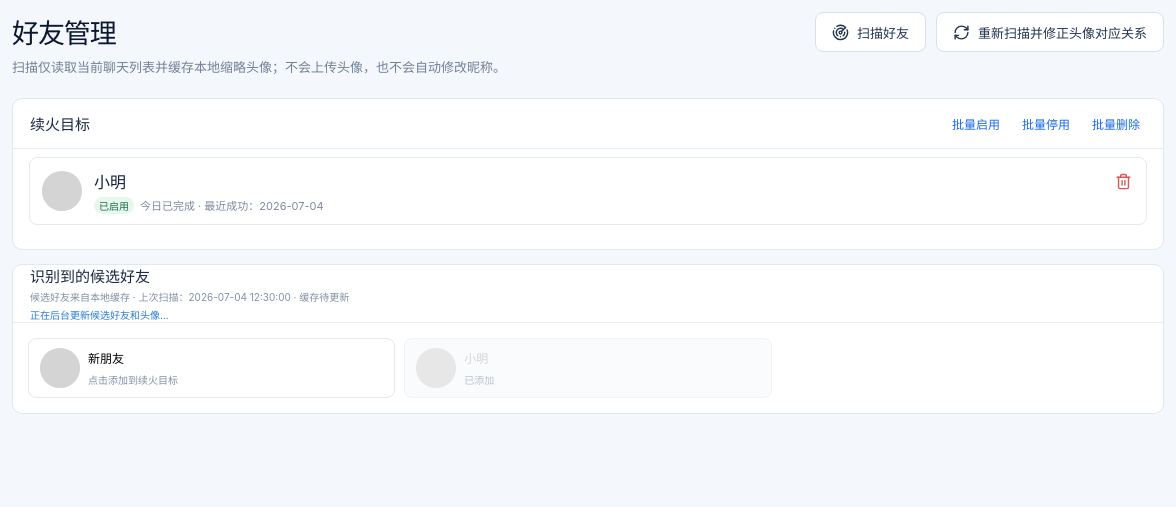
Test: shows local avatars, adds a discovered friend on click, and removes candidate checkboxes
This screenshot has width=1176, height=507.
Expected: the text "已启用 今日已完成 · 最近成功：2026-07-04" is shown, [94,196,324,214]
Expected: the text "候选好友来自本地缓存 · 上次扫描：2026-07-04 12:30:00 · 缓存待更新" is shown, [30,289,349,304]
Click the button with aria-label "添加 新朋友".
click(60, 368)  # box [28,338,395,398]
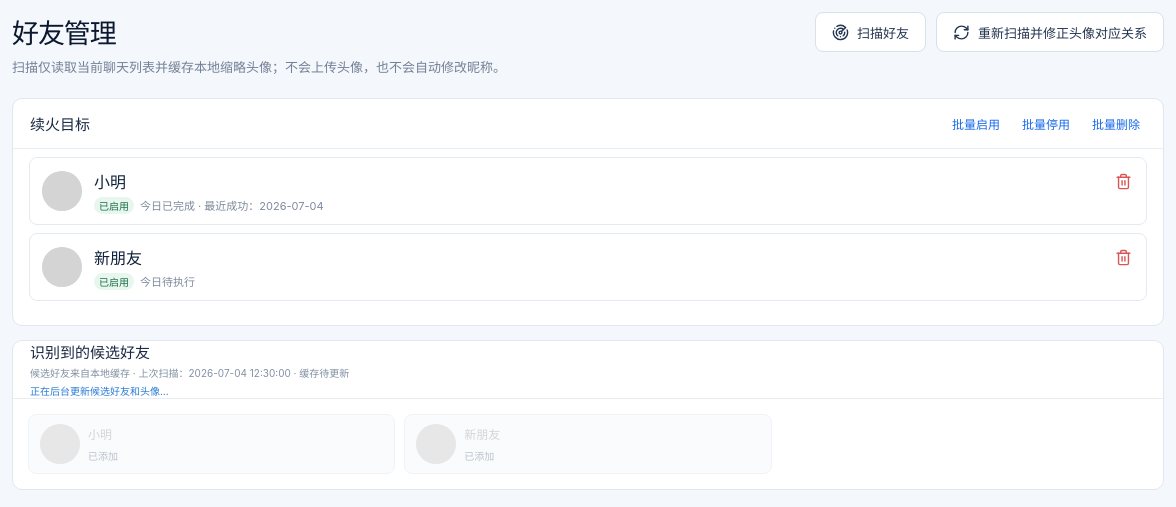
Expected: the 1st text "已添加" is shown, [88,450,118,462]
Expected: the button "添加 新朋友" is disabled, [404,414,772,474]
